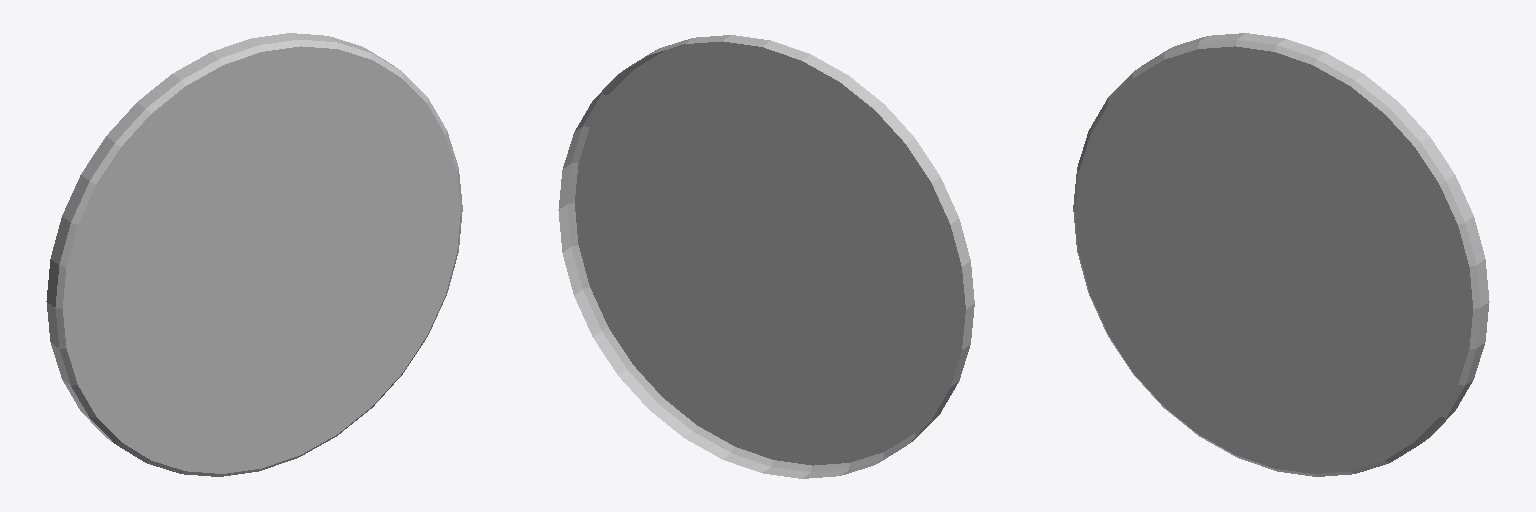
Rendered from WallClock_LP_plastica.obj.
3 renders of one model, left to right at view 1: azimuth 30°, elevation 25°; view 2: azimuth 150°, elevation 25°; view 3: azimuth 330°, elevation 25°, orthographic.
Parts seen in each view (by area): view 1: Glass_LP; view 2: Glass_LP; view 3: Glass_LP.
Boxes of the visible parts, box(x1,y1,x2,y2) form: Glass_LP: box(46, 33, 462, 476); Glass_LP: box(558, 35, 974, 478); Glass_LP: box(1073, 33, 1489, 476).
Bounding box in the file's own units: 248 × 248 × 12.22.